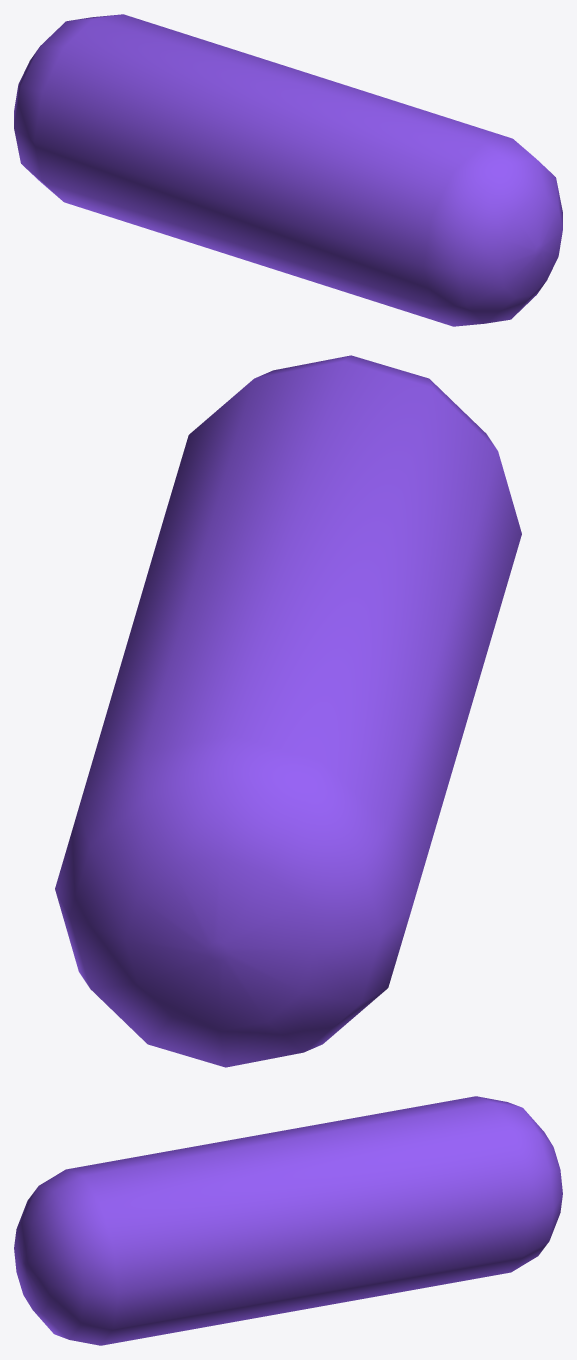
The model's file is riesenstreusel.glb.
The picture shows the model from 3 angles, top to bottom: view 1: azimuth 30°, elevation 25°; view 2: azimuth 150°, elevation 25°; view 3: azimuth 270°, elevation 25°; orthographic projection. The views are drawn at different scales.
Visible parts, largest first — view 1: p0; view 2: p0; view 3: p0.
Part boxes in pixels (bbox=[...]): p0: bbox=[14, 14, 562, 326]; p0: bbox=[55, 355, 521, 1067]; p0: bbox=[14, 1096, 562, 1345].
Size of the model in its own units: 0.0189 by 0.0099 by 0.0302.
